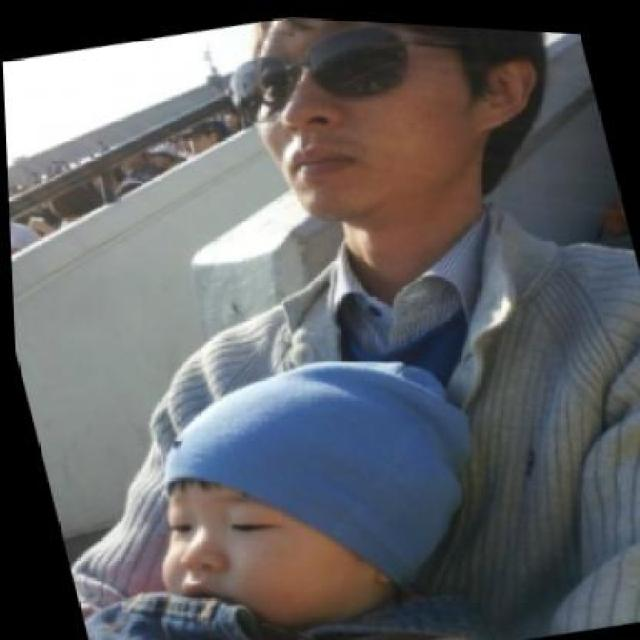hat: (159, 354, 470, 585)
